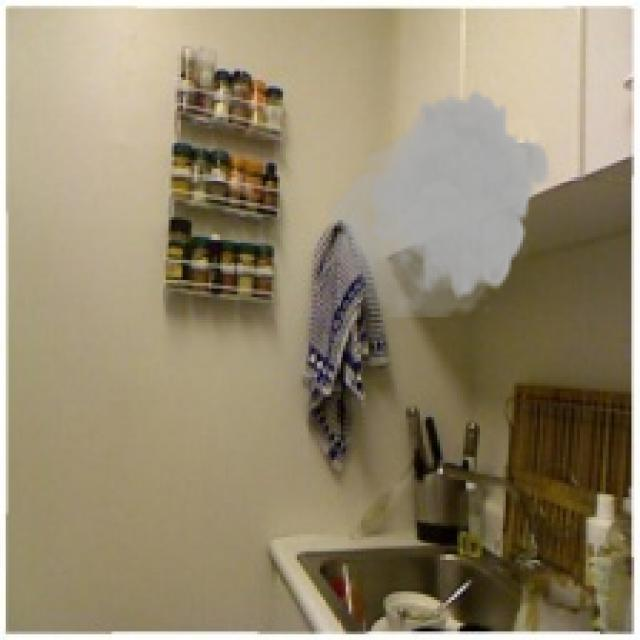Smoke: (323, 85, 551, 318)
